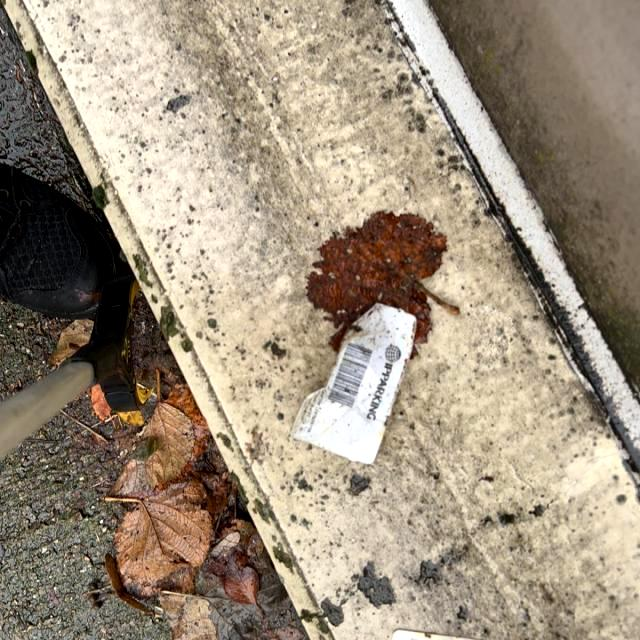Paper: (285, 296, 419, 466)
